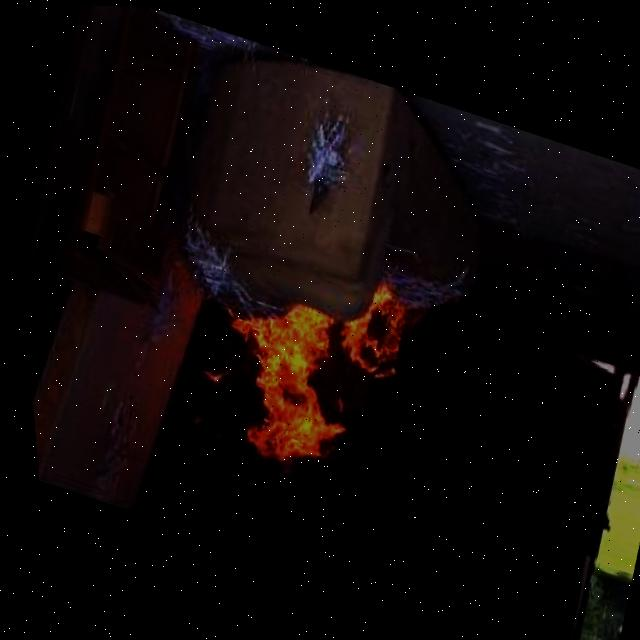Fire: (176, 273, 366, 490), (317, 266, 436, 398)
